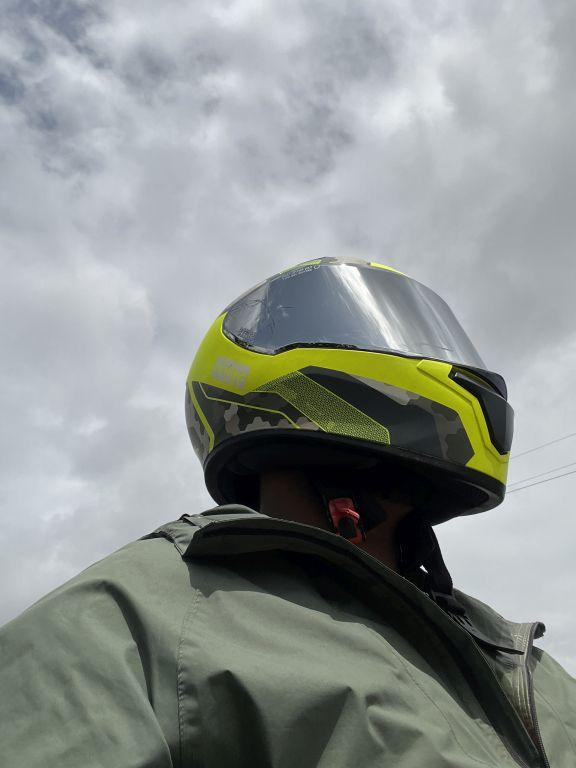helmet: (179, 245, 520, 533)
